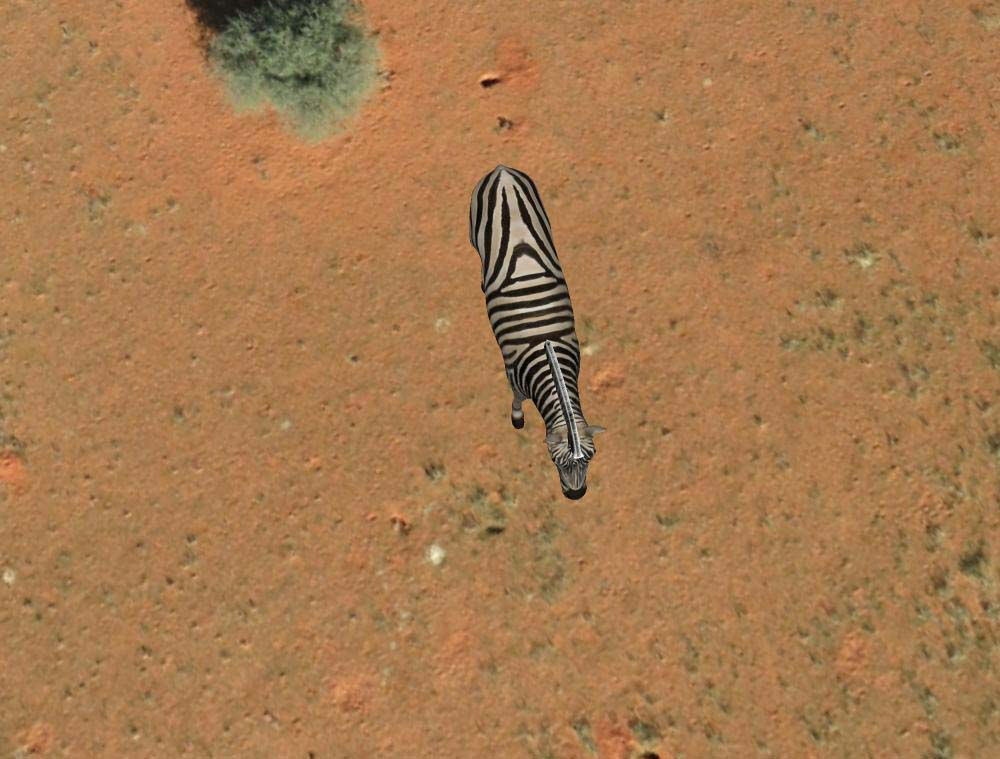zebra: (461, 161, 601, 504)
